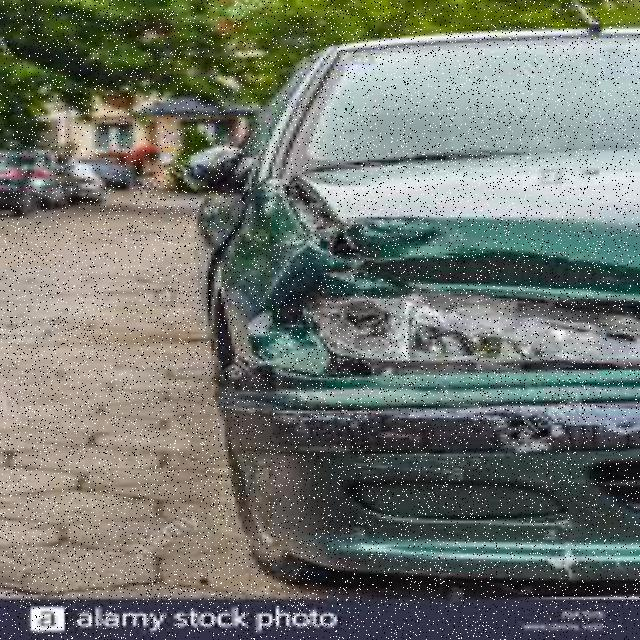Headlight-Damage: (232, 282, 637, 380)
bonnet-dent: (266, 172, 637, 282)
front-bumper-dent: (221, 365, 636, 582)
